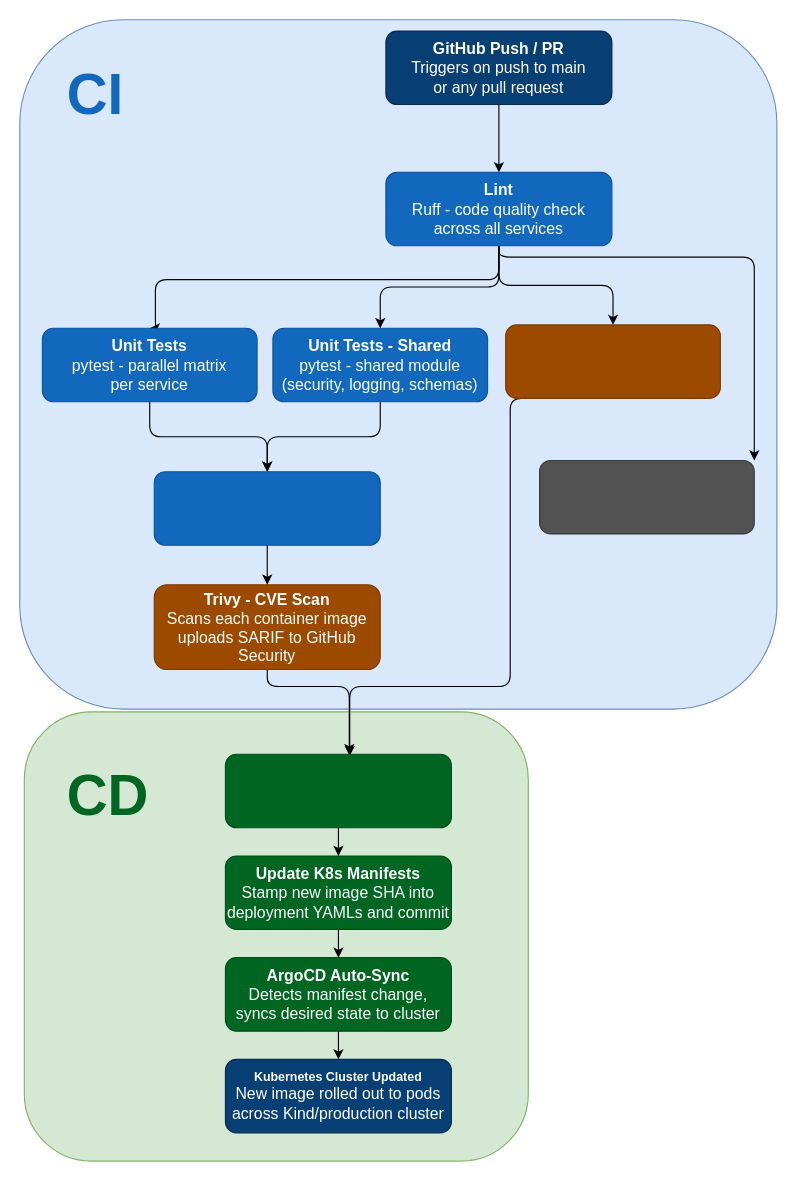
Image size: 797x1181. Some labels were removed from this diagram. The shapes that lost their labels are listed below. From the top down, each one's box as (x1, y1, x2, y2) in pixels, then its label:
(505, 324, 720, 398): Trivy - Filesystem Scans repo for secrets and misconfigs
(153, 471, 380, 545): Docker Build Build all service images verify Dockerfiles compile
(538, 459, 754, 534): Integration Tests Docker Compose full-stack API end-to-end tests
(224, 753, 451, 828): Push to GHCR Build & push tagged images to GitHub Container Registry
